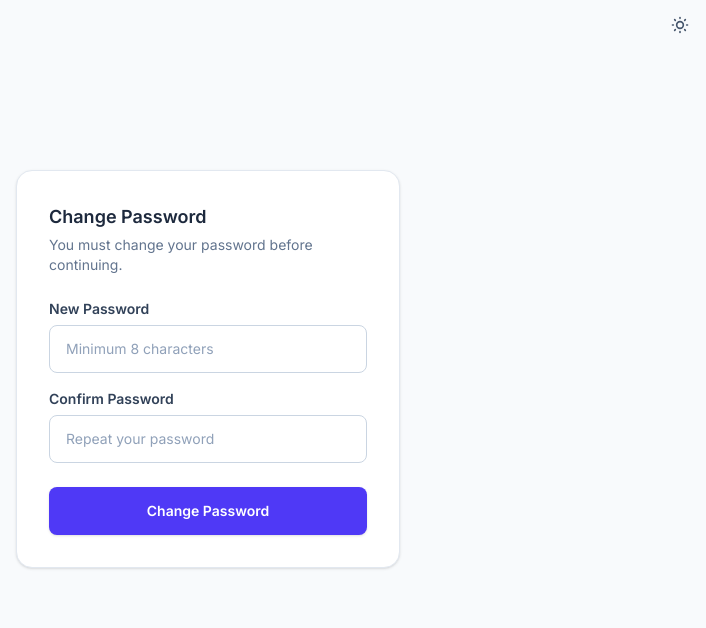
ChangePasswordPage › shows error when passwords do not match
Type "newpass123" into the password field labelled "New Password" at (208, 349), box top-left (49, 325), bottom-right (367, 373)
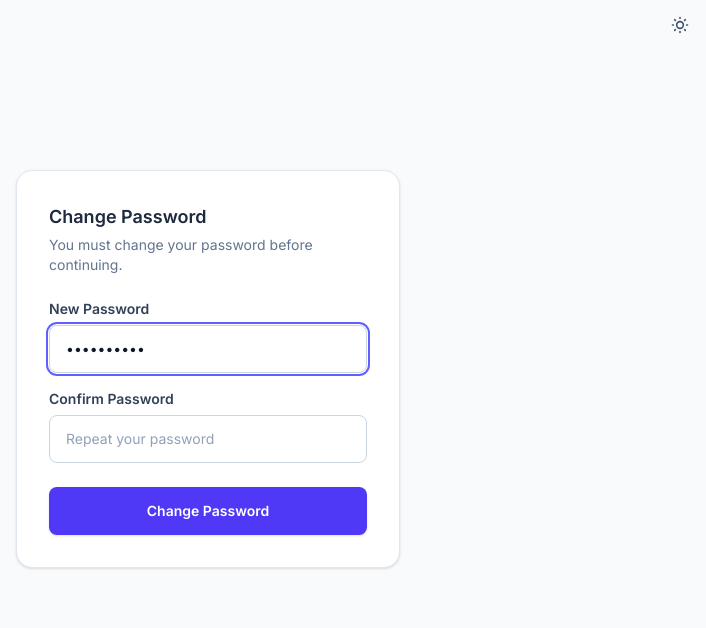
Type "different1" into the password field labelled "Confirm Password" at (208, 439), box top-left (49, 415), bottom-right (367, 463)
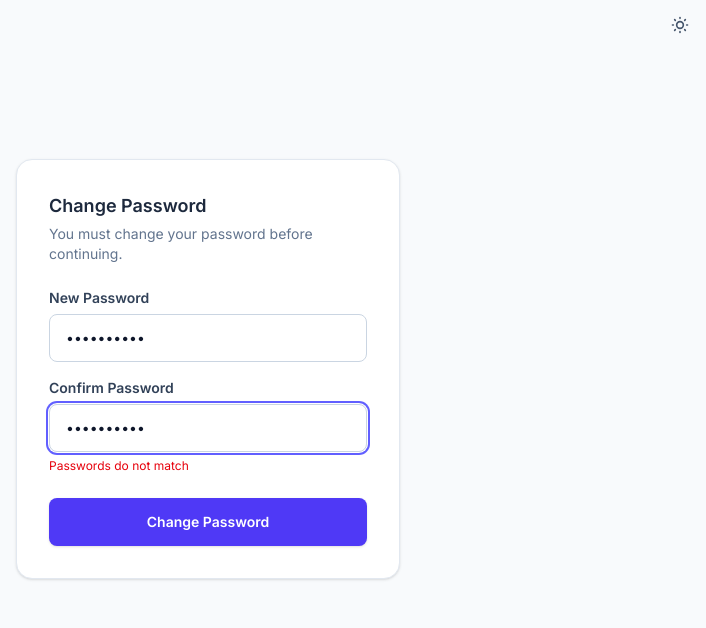
Click the button "Change Password" at (208, 522), box top-left (49, 498), bottom-right (367, 546)
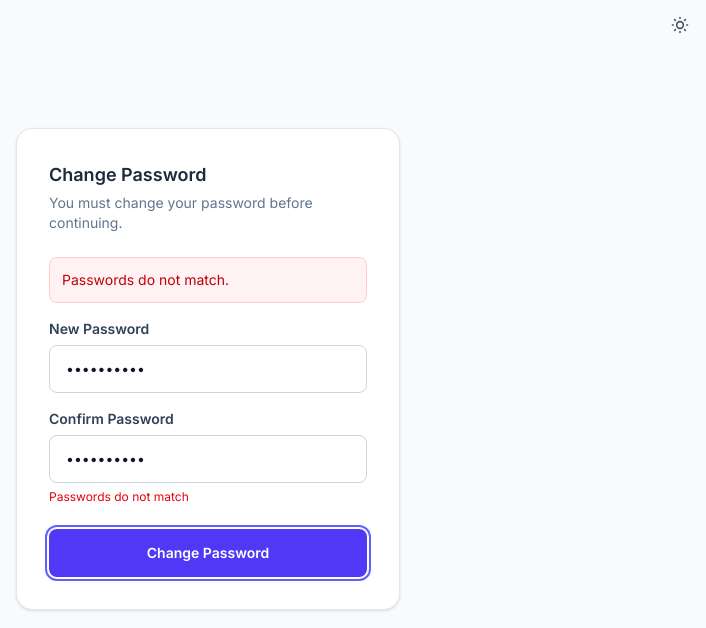
expect the message reads "Passwords do not match.": met, box top-left (62, 271), bottom-right (229, 288)
